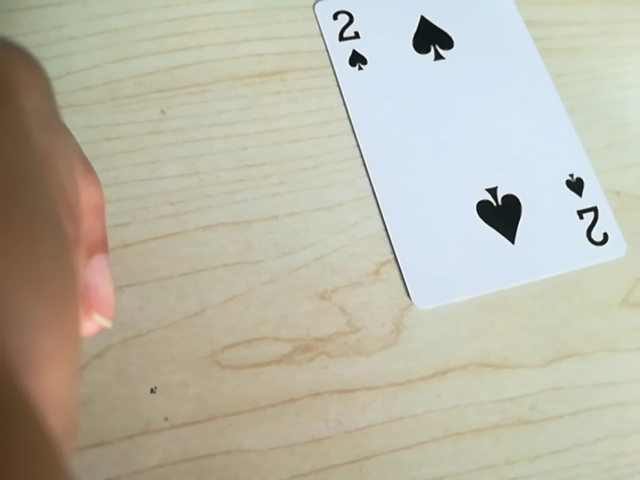ht 2: (321, 0, 378, 81), (562, 167, 609, 257)
